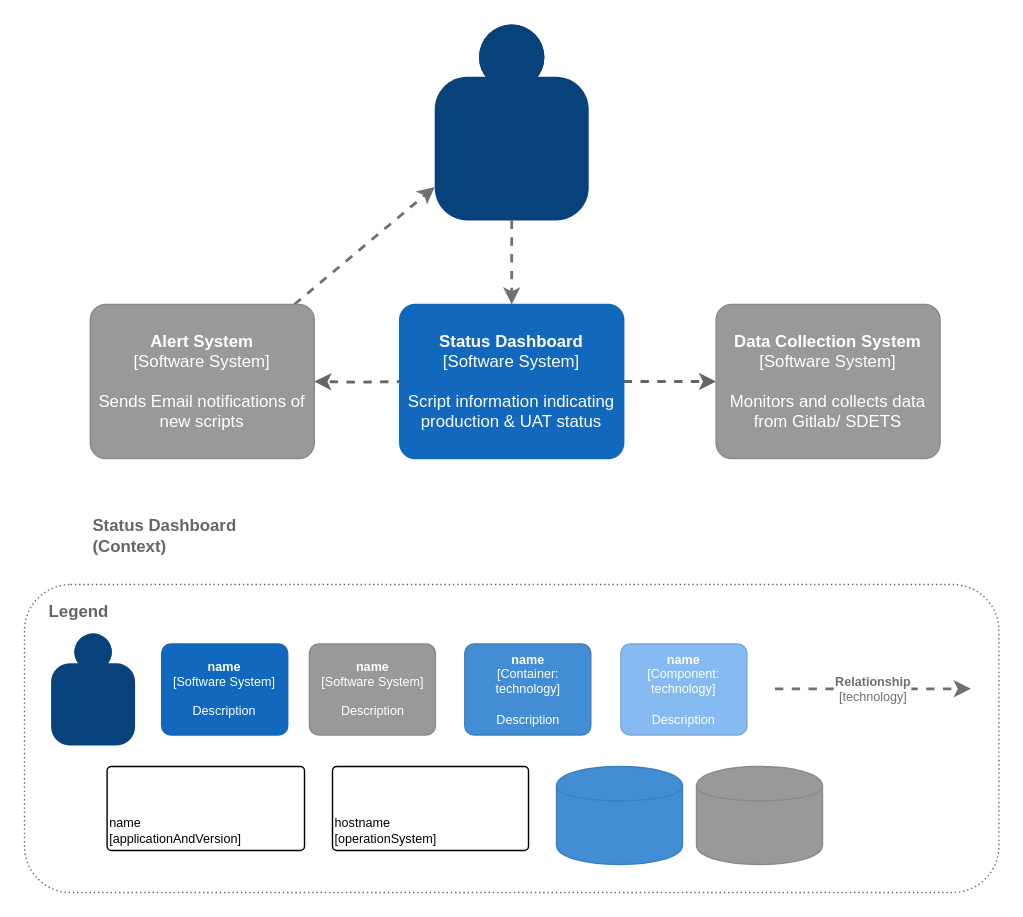
The diagram is 1023 pixels wide and 917 high, and some of its shapes have lost their labels. Here are the shapes that lost their labels. From the top down, the centre of each, then its label:
At (511,122): "SDETS [Person] Monitors the Automation line".
At (92,689): "name [Person] Description".
At (618,814): "Database [Container: Technology] Description".
At (758,814): "Database [Container: Technology] External".
